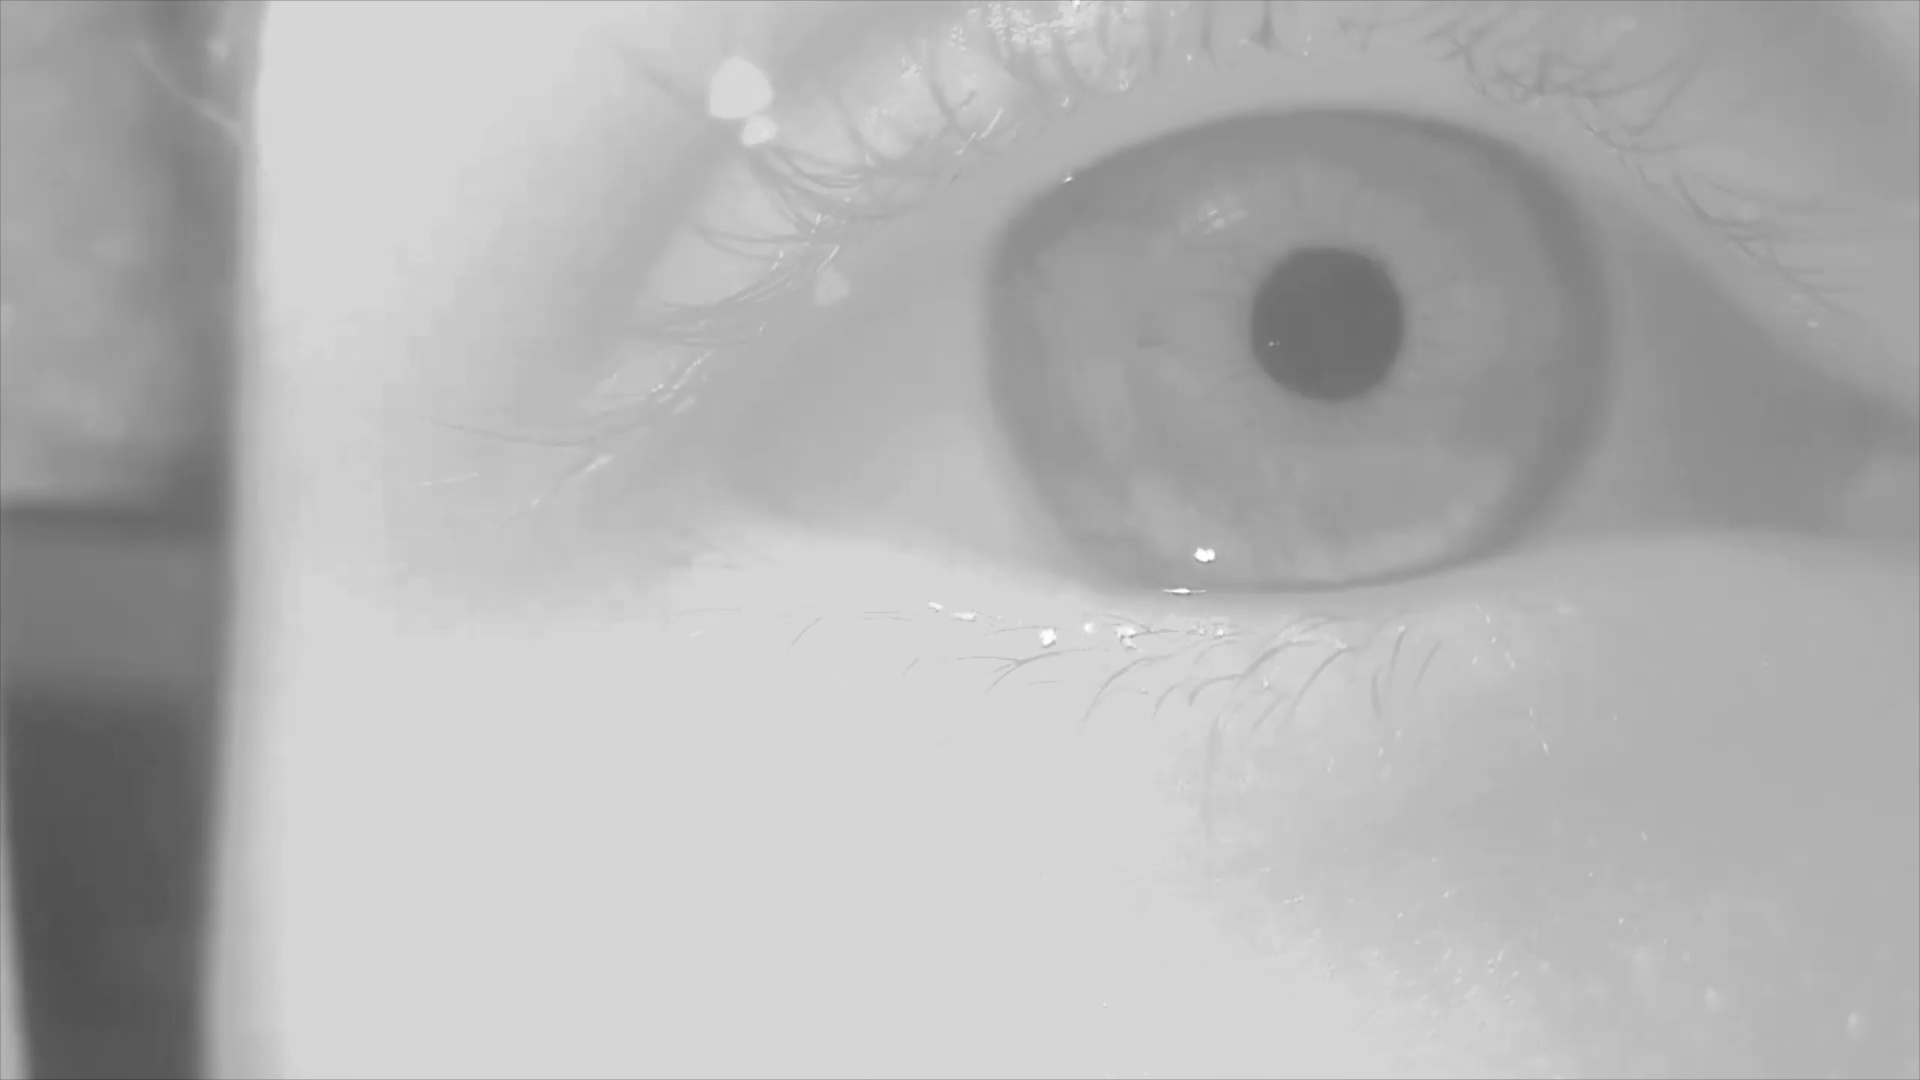pupil: (1257, 248, 1404, 403)
